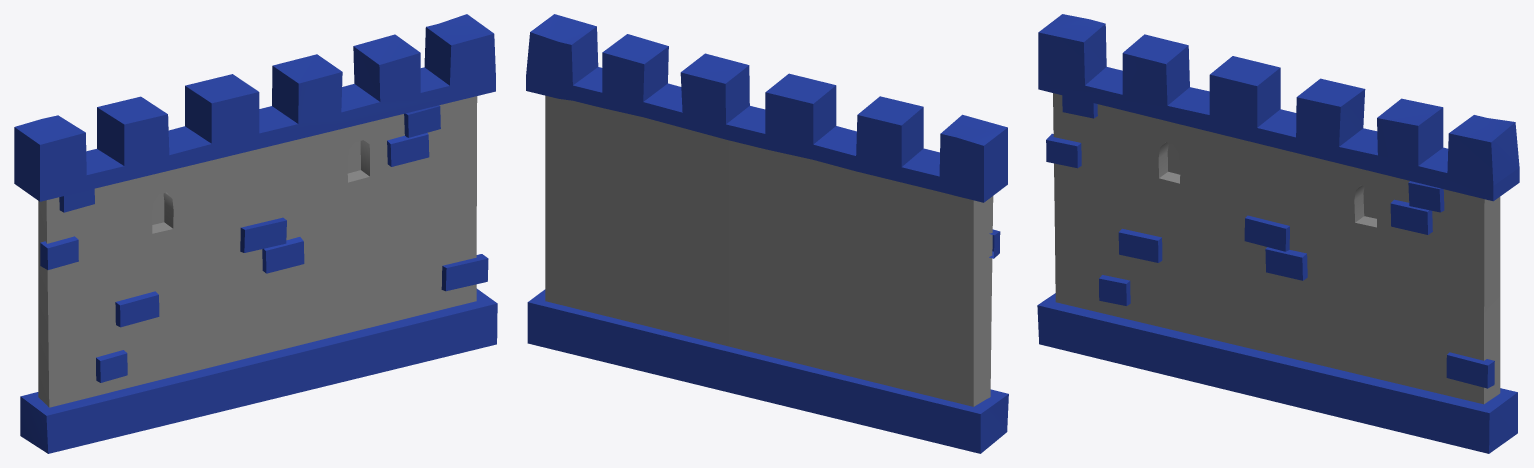
The model's file is Ruins_Wall_02_mm.fbx.
3 views of the same model, side by side, from view 1: azimuth 30°, elevation 25°; view 2: azimuth 150°, elevation 25°; view 3: azimuth 330°, elevation 25° (orthographic).
Visible parts, largest first — view 1: Ruins_Wall_02; view 2: Ruins_Wall_02; view 3: Ruins_Wall_02.
Part boxes in pixels (x1,y1,x2,y2): Ruins_Wall_02: (14, 14, 497, 453); Ruins_Wall_02: (526, 14, 1008, 453); Ruins_Wall_02: (1037, 14, 1519, 453).
Size of the model in its own units: 705 by 460 by 76.55.
